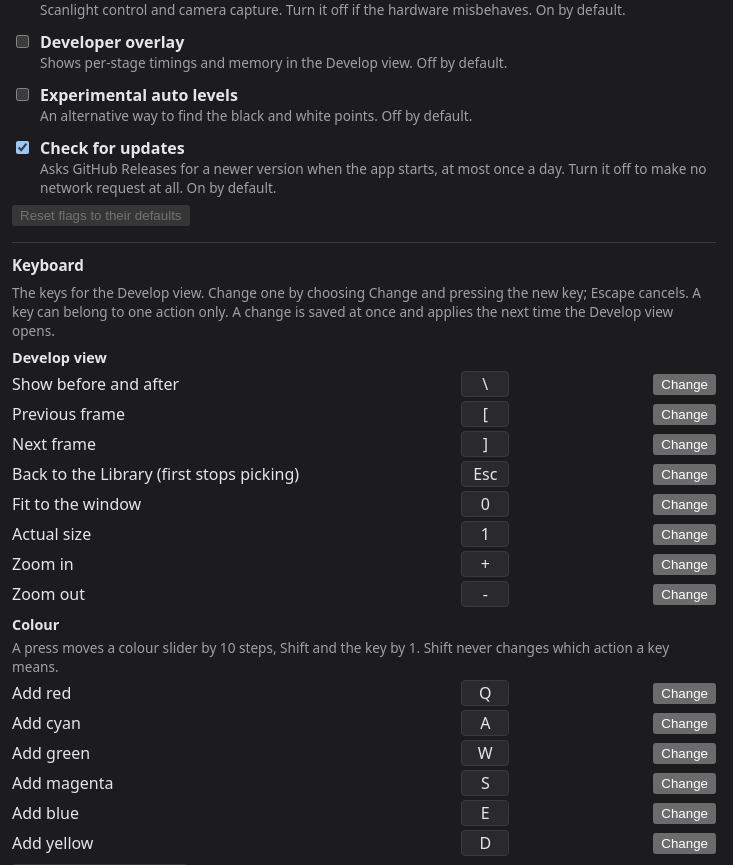
Test: the Keyboard section of Settings › changing a key › refuses a combination with Ctrl with a reason
The width and height of the screenshot is (733, 865).
(page scrolled)
Step 1. Click the button "Change" in the row of "Add red" → [685, 693], box [653,682,716,704]
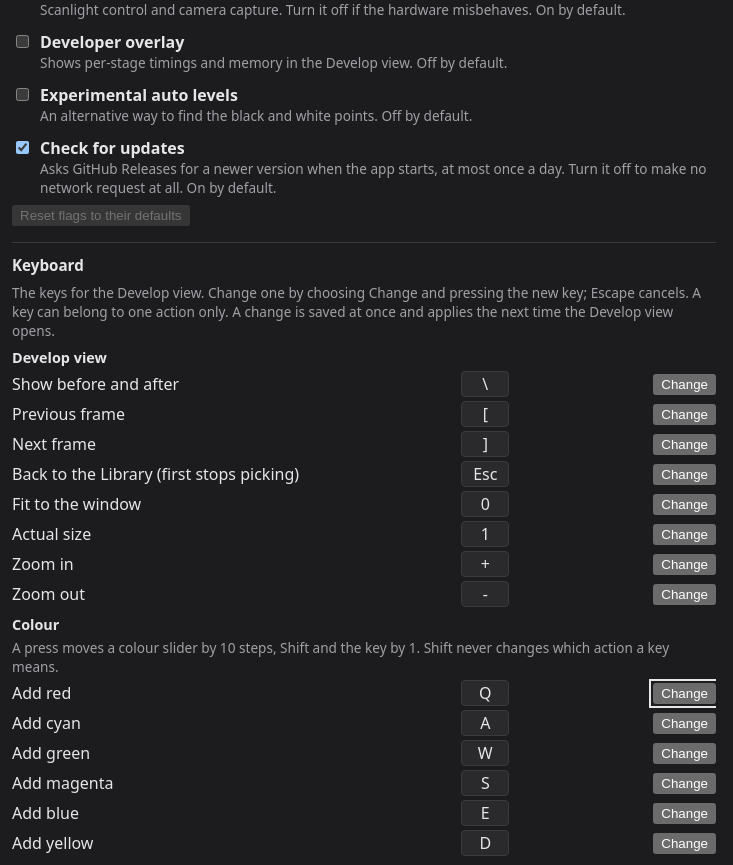
Step 2. Type keys "{Control>}r{/Control}"
(page scrolled)
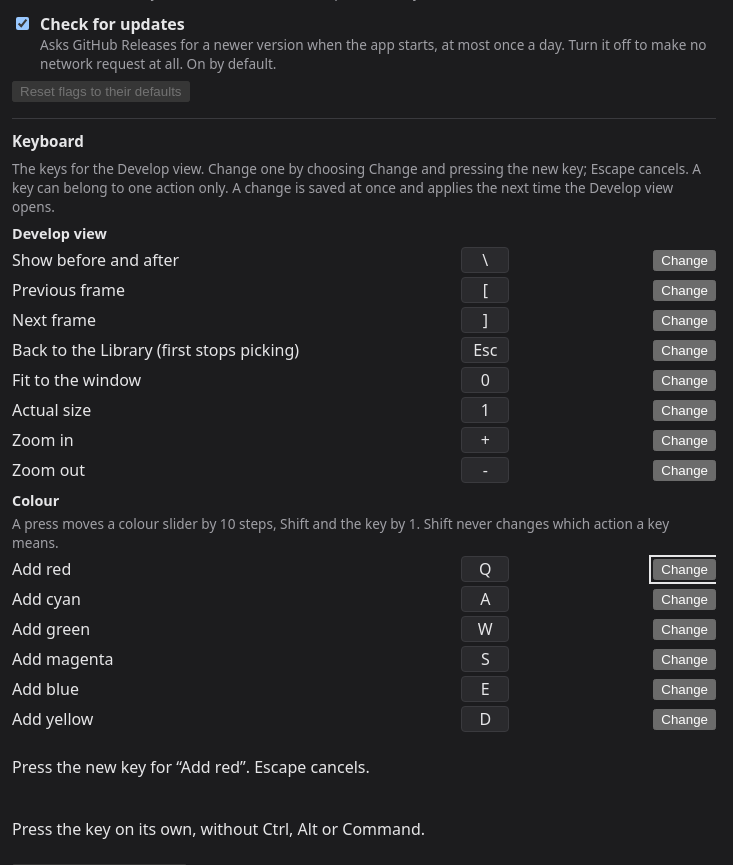
expect the message "Press the key on its own, without Ctrl, Alt or Command." is shown: met, box [12,818,425,840]
